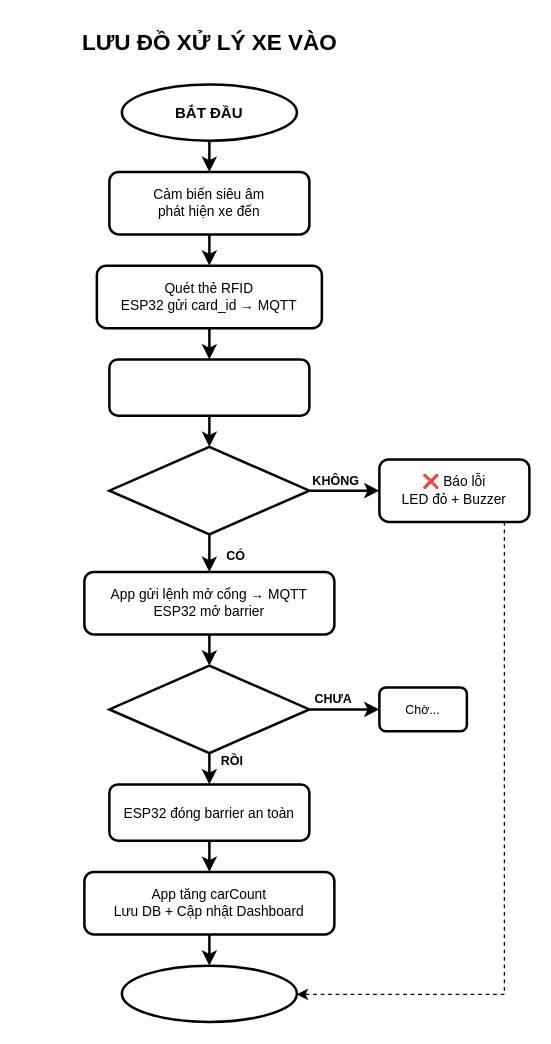
Image size: 551x1044. Some labels were removed from this diagram. Here are the shapes that lost their labels. From the top down, the centre of each, then its label:
At [209,387]: "App nhận & kiểm tra thẻ".
At [209,490]: "Thẻ hợp lệ & còn chỗ?".
At [209,709]: "Cảm biến hồng ngoại: Xe đã qua?".
At [209,993]: "KẾT THÚC".
